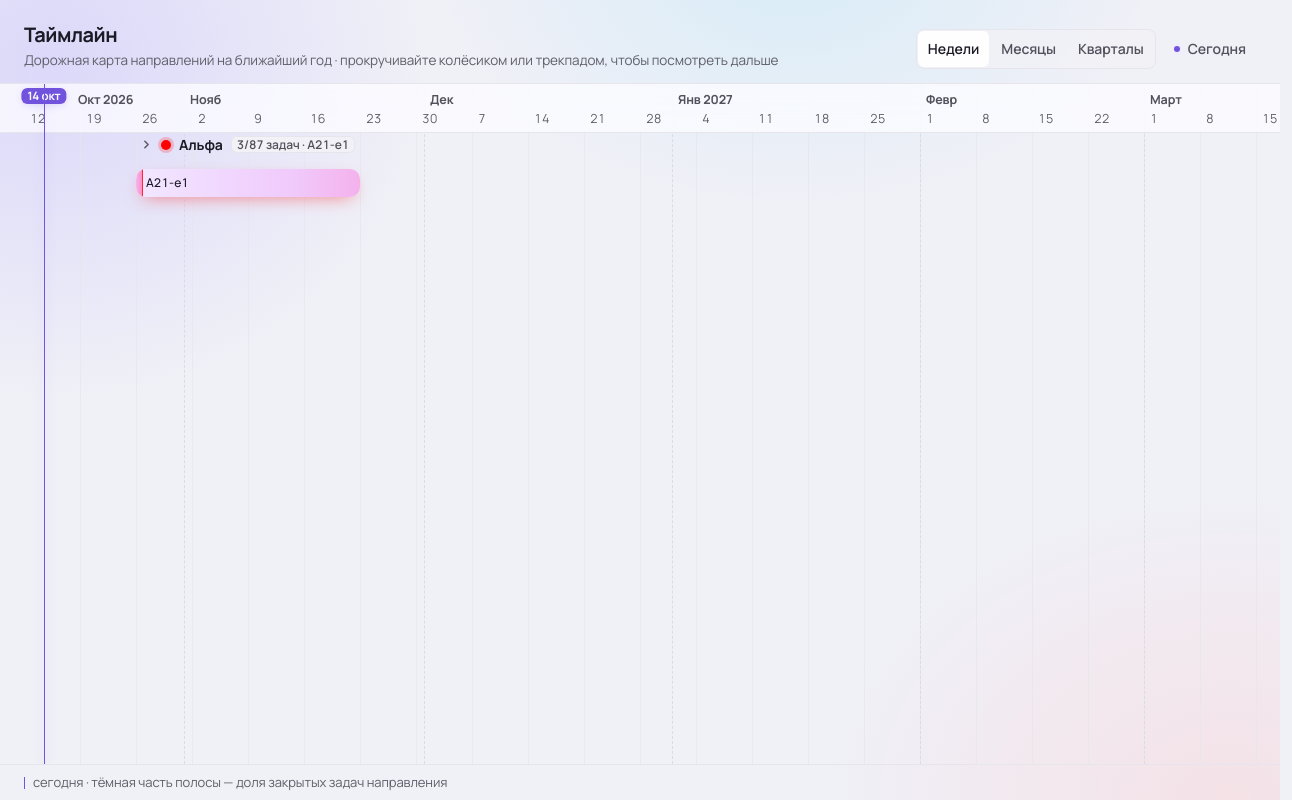
Test: Timeline при частичном сторе › «Показать ещё» дочитывает следующую страницу без дублей; по концу набора подпись пропадает
What coordinates should you click on to do the following:
click the button "Альфа 3/87 задач · A21-e1"
I would click on:
 (250, 145)
Its box is [136,133,363,157].
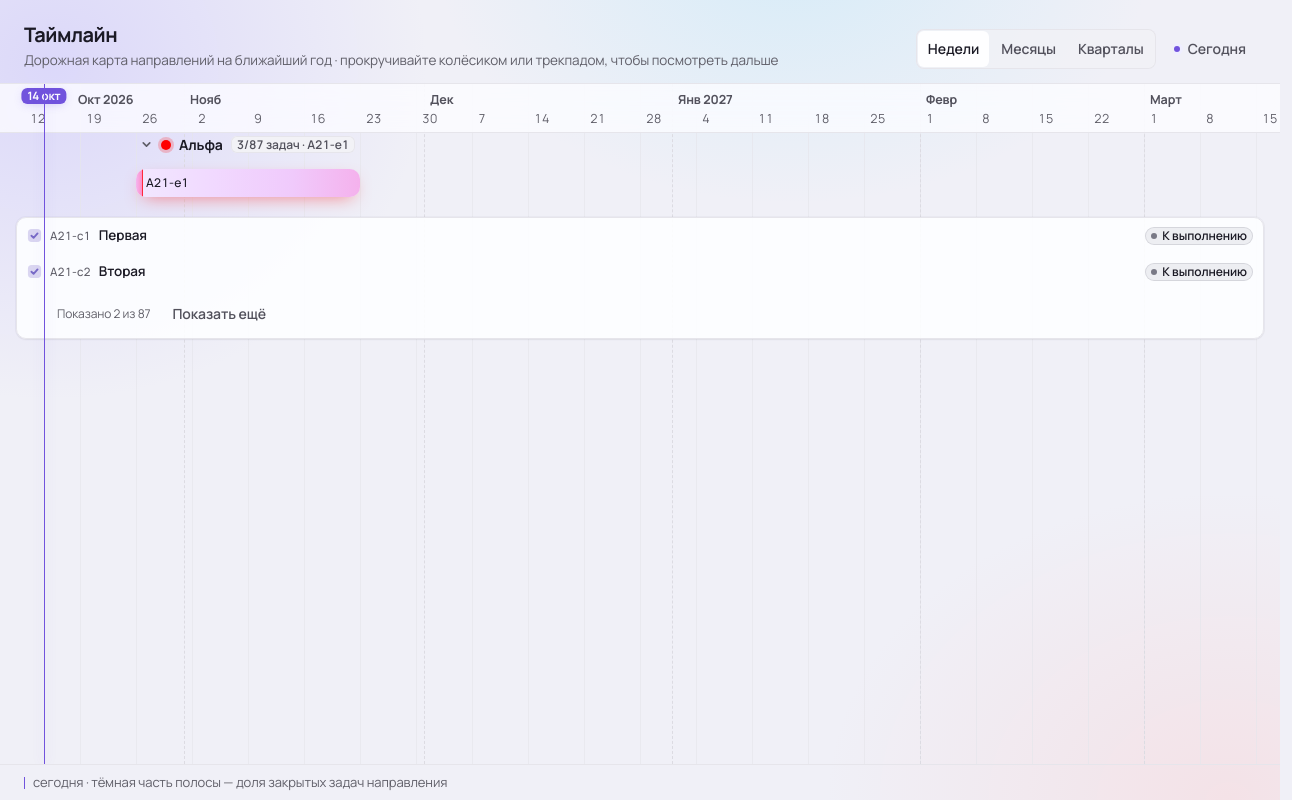
What coordinates should you click on to do the following:
click the button "Показать ещё"
I would click on:
 (219, 314)
Its box is [162,296,276,332].
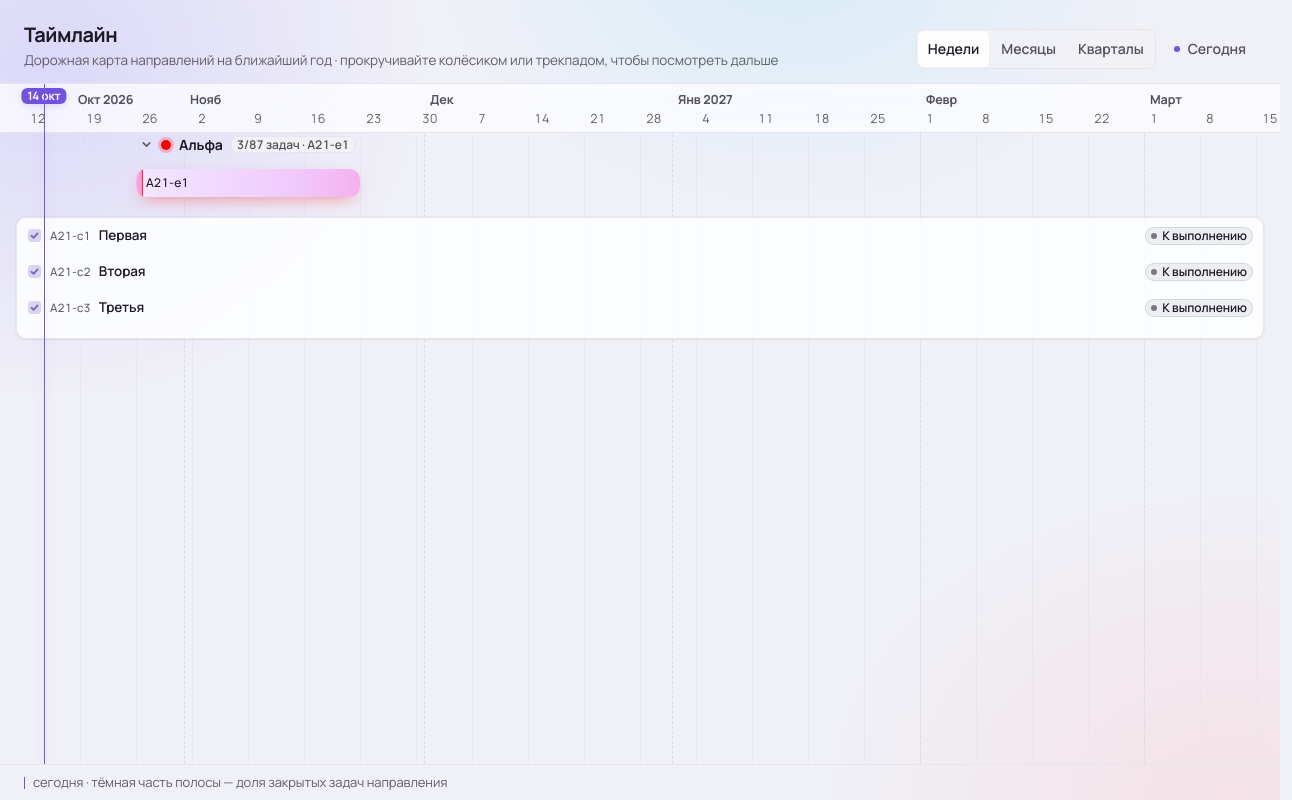
Result: the text "Третья" is shown at [99,299,144,316]
Result: the button "Показать ещё" is gone
Result: the text "Показано 2 из 87" is gone
